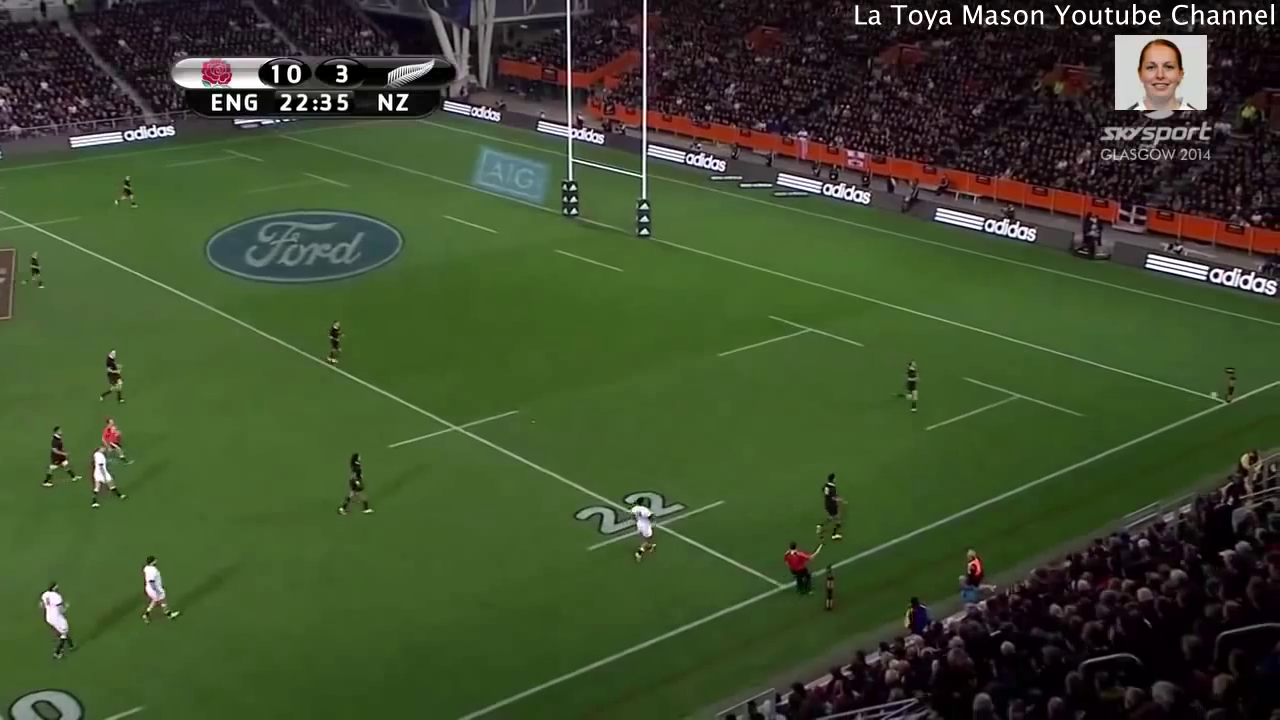player: (28, 578, 88, 666), (137, 542, 187, 636), (78, 437, 134, 519), (329, 441, 377, 528), (31, 420, 85, 497), (804, 464, 850, 548), (85, 339, 129, 412), (621, 495, 662, 563), (889, 354, 925, 422), (313, 314, 352, 376), (96, 415, 135, 477), (109, 165, 142, 218), (19, 246, 45, 296)
post: (551, 1, 663, 248)
